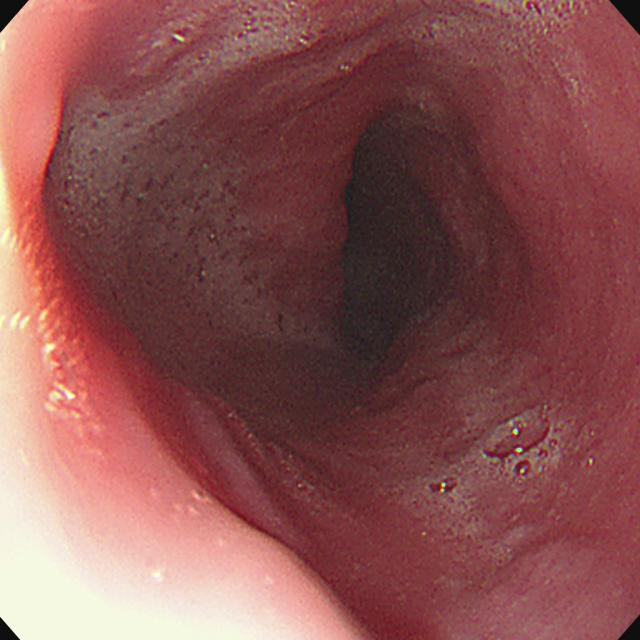E: (343, 145, 455, 364)
T: (58, 86, 305, 347), (429, 328, 569, 504), (337, 2, 592, 76), (128, 2, 324, 86)
